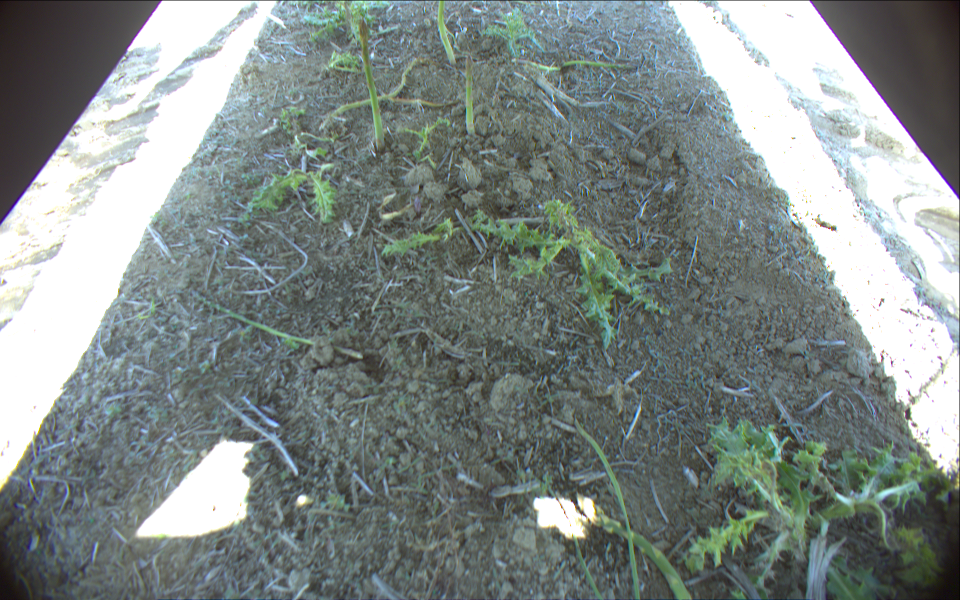aspa: (575, 420, 640, 600), (193, 292, 360, 358), (592, 513, 690, 600), (334, 58, 421, 114), (358, 19, 386, 150), (510, 58, 642, 74), (437, 1, 456, 63), (464, 54, 475, 132)
